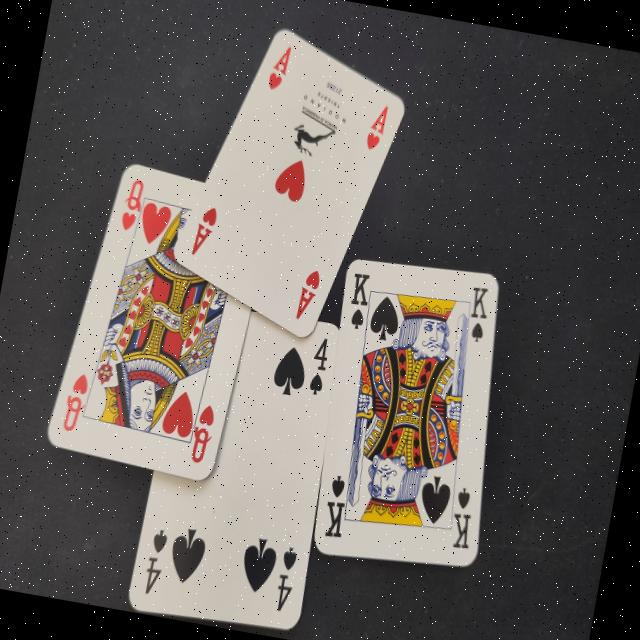4s: (269, 540, 303, 617), (138, 524, 172, 600), (304, 330, 334, 400)
Ah: (290, 256, 328, 328), (186, 200, 224, 260), (264, 35, 300, 94), (362, 95, 395, 154)
Ks: (441, 474, 482, 558), (314, 468, 356, 546), (460, 280, 494, 344), (343, 266, 375, 332)
Qh: (56, 362, 98, 438), (185, 396, 218, 466), (118, 173, 152, 233)
